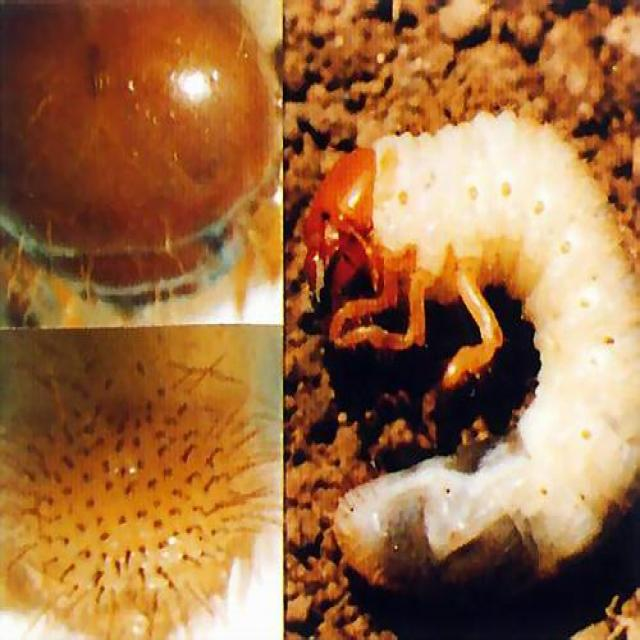Grub-Adult-: (311, 103, 639, 580)
